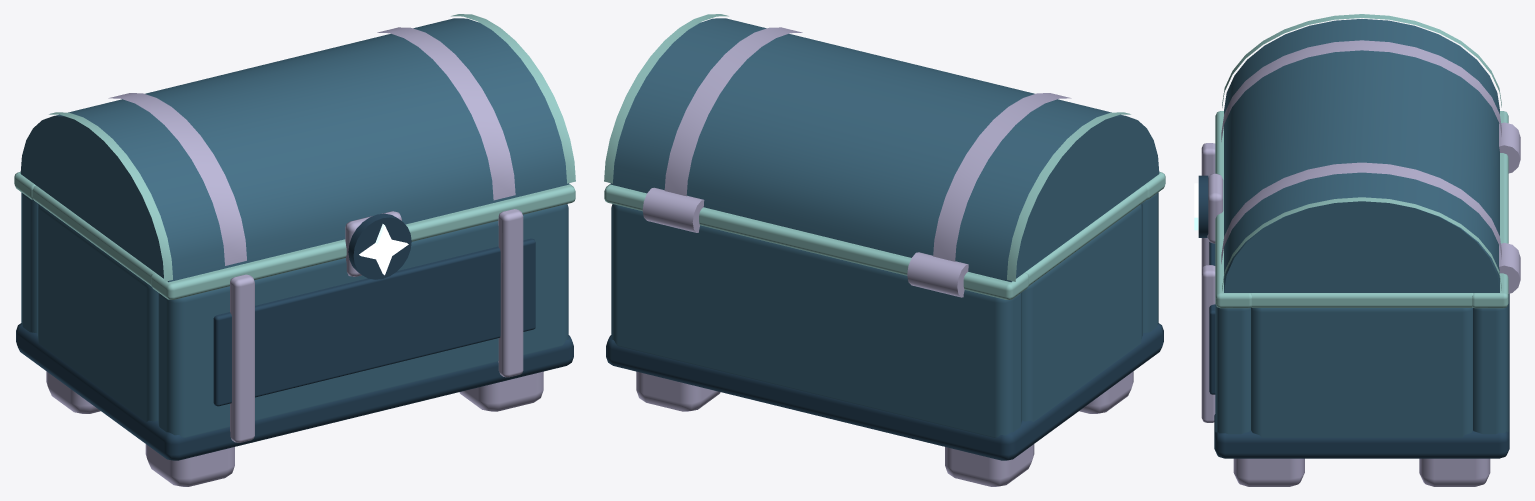
File: chest.glb
The picture shows the model from 3 angles, left to right: view 1: azimuth 30°, elevation 25°; view 2: azimuth 150°, elevation 25°; view 3: azimuth 270°, elevation 25°; orthographic projection. The views are drawn at different scales.
Parts seen in each view (by area): view 1: Lid, FrontInset, CaseFront, CaseLeft, LowerPlinth, LidEndL, UpperFrontRim, LidBandR, LidBandL, FrontBandR, FrontBandL, MoonSealDisc (+8 smaller); view 2: Lid, CaseRear, CaseLeft, LowerPlinth, LidEndL, UpperRearRim, LidBandL, LidBandR, FootLRear, CaseFront, UpperSideRimL, FootRRear (+5 smaller); view 3: Lid, CaseRight, LidEndR, LowerPlinth, CaseFront, CaseRear, UpperSideRimR, LidBandR, LidBandL, FootRFront, FootRRear, UpperFrontRim (+10 smaller).
Boxes of the visible parts, x1=… form: Lid: x1=54, y1=18, x2=569, y2=281; FrontInset: x1=213, y1=238, x2=535, y2=406; CaseFront: x1=158, y1=204, x2=568, y2=437; CaseLeft: x1=37, y1=203, x2=157, y2=421; LowerPlinth: x1=16, y1=323, x2=573, y2=460; LidEndL: x1=20, y1=116, x2=168, y2=281; UpperFrontRim: x1=151, y1=184, x2=575, y2=299; LidBandR: x1=377, y1=27, x2=515, y2=200; LidBandL: x1=108, y1=93, x2=246, y2=265; FrontBandR: x1=498, y1=209, x2=523, y2=377; FrontBandL: x1=230, y1=274, x2=254, y2=442; MoonSealDisc: x1=348, y1=213, x2=411, y2=279; Lid: x1=610, y1=18, x2=1125, y2=281; CaseRear: x1=611, y1=204, x2=1021, y2=437; CaseLeft: x1=1022, y1=203, x2=1142, y2=421; LowerPlinth: x1=606, y1=323, x2=1163, y2=460; LidEndL: x1=1011, y1=116, x2=1159, y2=281; UpperRearRim: x1=604, y1=184, x2=1028, y2=299; LidBandL: x1=933, y1=93, x2=1071, y2=261; LidBandR: x1=664, y1=27, x2=802, y2=196; FootLRear: x1=945, y1=444, x2=1034, y2=486; CaseFront: x1=1142, y1=192, x2=1158, y2=333; UpperSideRimL: x1=1025, y1=185, x2=1147, y2=286; FootRRear: x1=636, y1=371, x2=720, y2=411; Lid: x1=1224, y1=19, x2=1499, y2=291; CaseRight: x1=1251, y1=307, x2=1472, y2=437; LidEndR: x1=1224, y1=201, x2=1499, y2=292; LowerPlinth: x1=1214, y1=293, x2=1509, y2=458; CaseFront: x1=1215, y1=304, x2=1250, y2=434; CaseRear: x1=1473, y1=304, x2=1508, y2=434; UpperSideRimR: x1=1251, y1=293, x2=1473, y2=307; LidBandR: x1=1221, y1=162, x2=1501, y2=263; LidBandL: x1=1221, y1=40, x2=1501, y2=141; FootRFront: x1=1233, y1=458, x2=1304, y2=486; FootRRear: x1=1419, y1=458, x2=1490, y2=486; UpperFrontRim: x1=1215, y1=111, x2=1251, y2=308.
Size of the model in its own units: 2.05 by 1.54 by 1.51.
